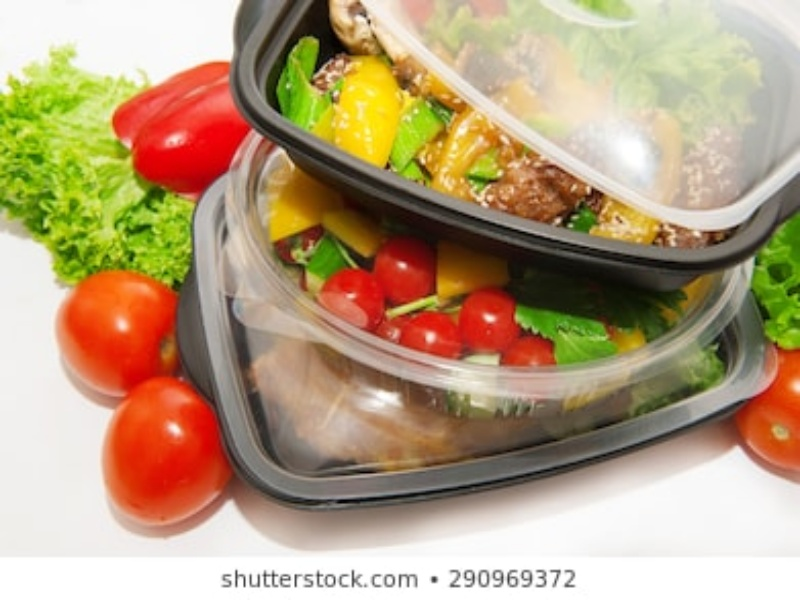plastic-container: (166, 163, 776, 511), (231, 1, 800, 281), (224, 129, 759, 414)
